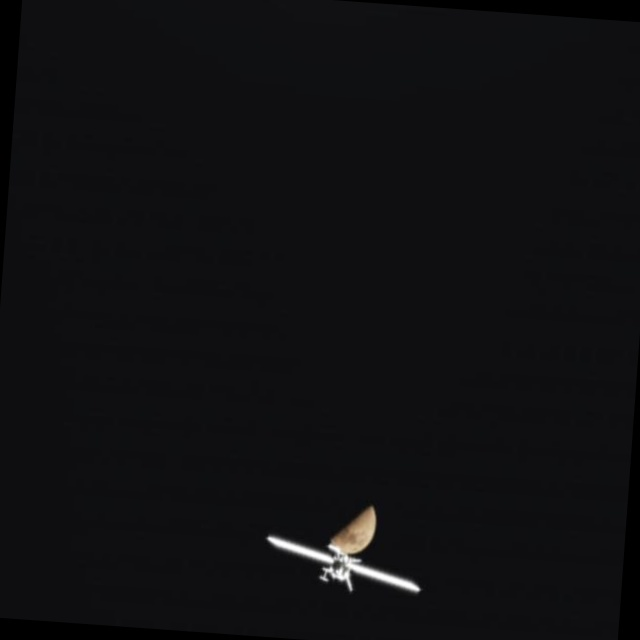satellite: (261, 538, 435, 602)
